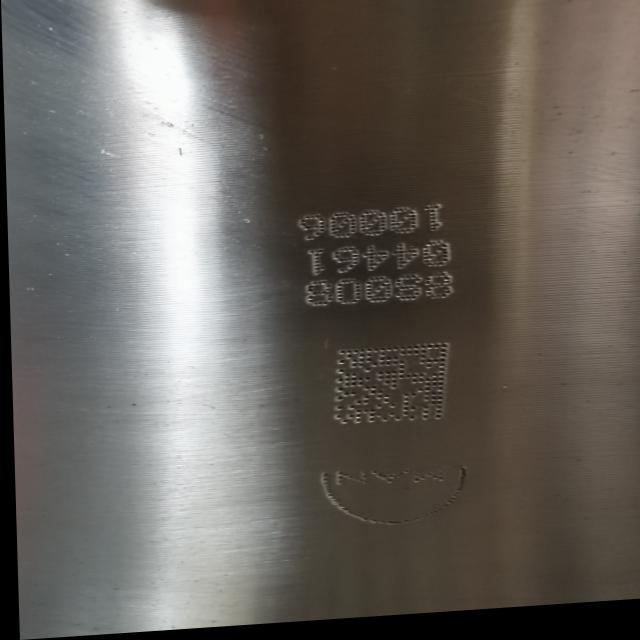dmc: (329, 349, 445, 430)
